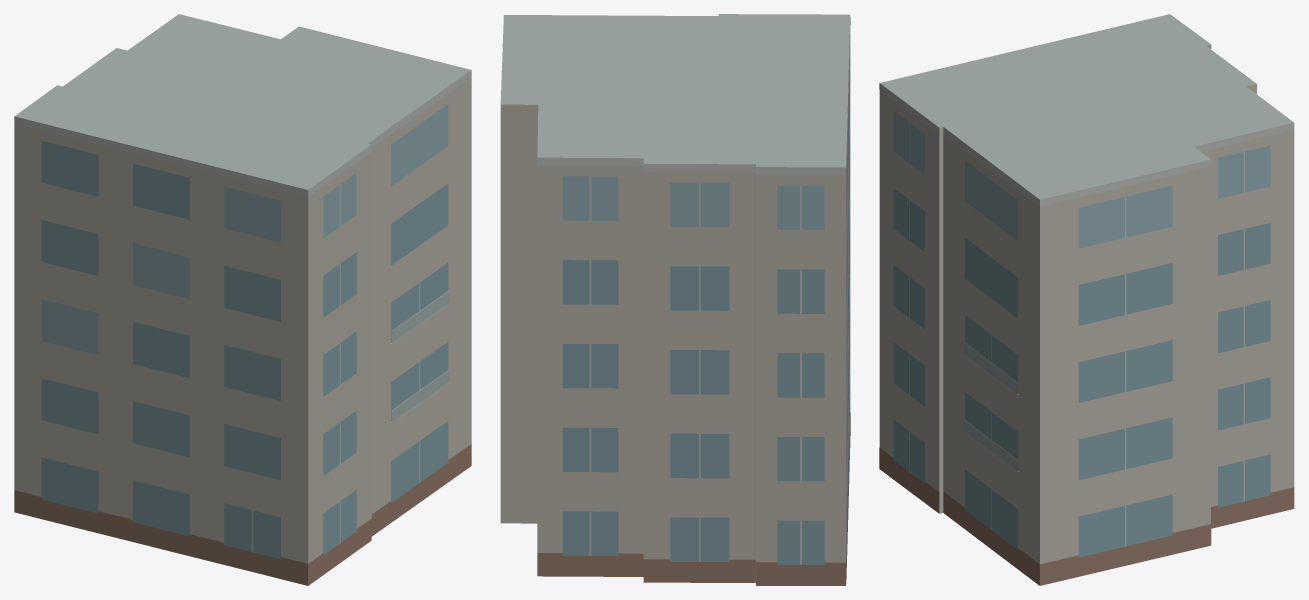
File: survey-upis-32911980.glb
The picture shows the model from 3 angles, left to right: view 1: azimuth 30°, elevation 25°; view 2: azimuth 150°, elevation 25°; view 3: azimuth 270°, elevation 25°; orthographic projection. The views are drawn at different scales.
Parts seen in each view (by area): view 1: survey-upis-32911980.tmp; view 2: survey-upis-32911980.tmp; view 3: survey-upis-32911980.tmp.
Part boxes in pixels (x1,y1,x2,y2): survey-upis-32911980.tmp: [14, 14, 471, 585]; survey-upis-32911980.tmp: [500, 14, 850, 585]; survey-upis-32911980.tmp: [879, 14, 1294, 585].
Bounding box in the file's own units: 13.84 × 13.4 × 13.05.
